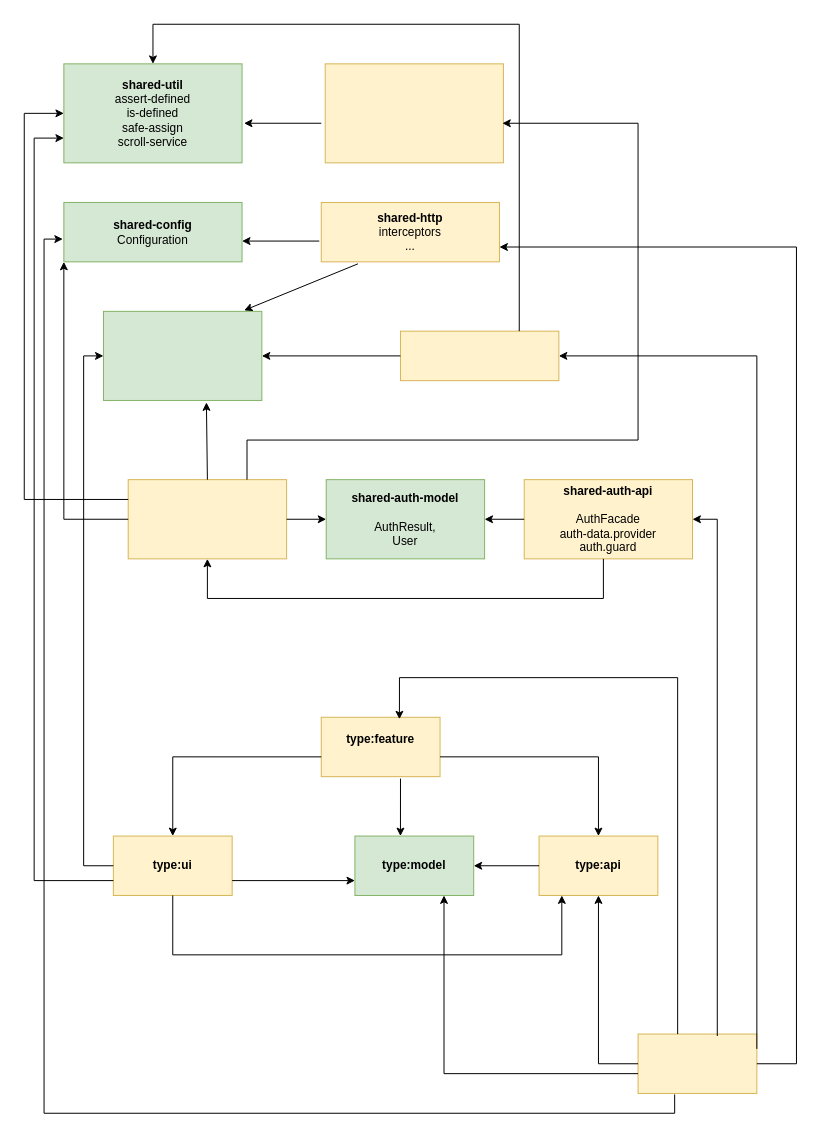
The diagram is 822 pixels wide and 1139 high, and some of its shapes have lost their labels. The shapes that lost their labels are listed below. From the top down, each one's centre as x and y in pixels, then its label:
point (413, 113): shared-ngrx-utils filter-defined noop-action safe-concat-map ...
point (182, 355): shared-messaging-api MessageService Message ResponsePayload
point (479, 355): shared-messaging-ui MessageComponent LoadingIndicatorComponent
point (207, 519): shared-auth-data internal.model.ts ngrx repository
point (697, 1063): type:app
